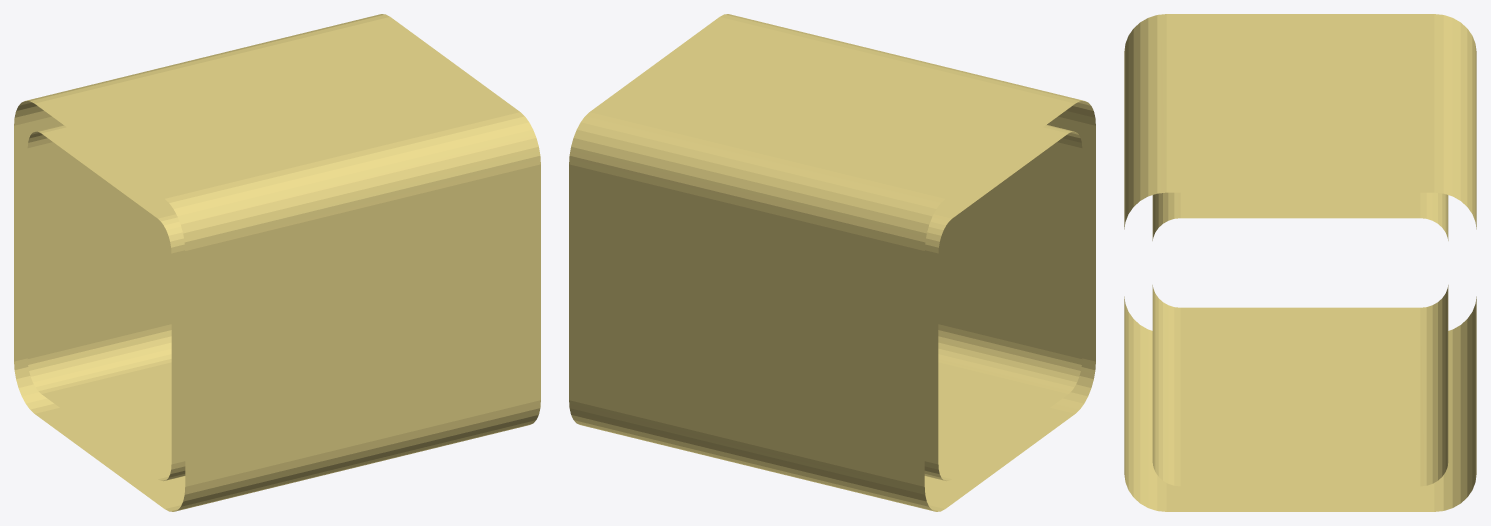
File: RailRight_12.obj
3 renders of one model, left to right at view 1: azimuth 30°, elevation 25°; view 2: azimuth 150°, elevation 25°; view 3: azimuth 270°, elevation 25°, orthographic. The views are drawn at different scales.
Visible parts, largest first — view 1: RailRight_12_15; view 2: RailRight_12_15; view 3: RailRight_12_15.
Part boxes in pixels (box(x1,y1,x2,y2)): RailRight_12_15: box(14, 14, 540, 511); RailRight_12_15: box(569, 14, 1095, 511); RailRight_12_15: box(1124, 14, 1476, 511).
Size of the model in its own units: 0.03 by 0.025 by 0.025.
